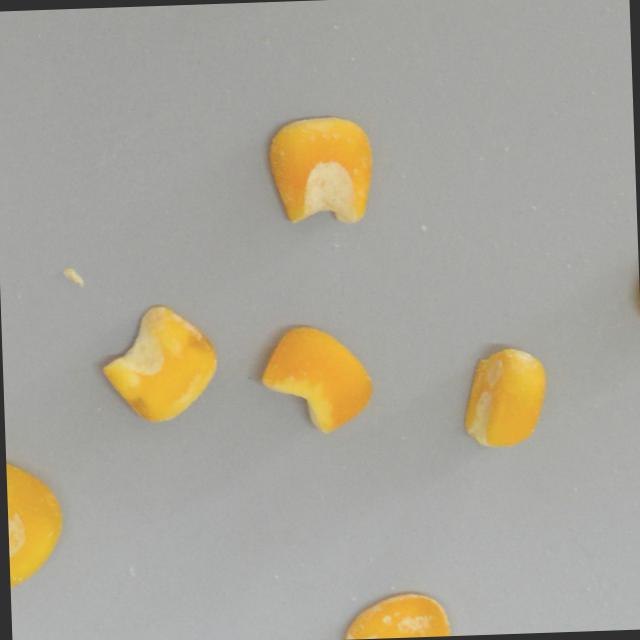dañado: (92, 298, 224, 431), (258, 112, 376, 229), (334, 586, 454, 640)
no_canjicado: (253, 319, 378, 440)
pelicula: (456, 339, 552, 452), (4, 449, 68, 597)
